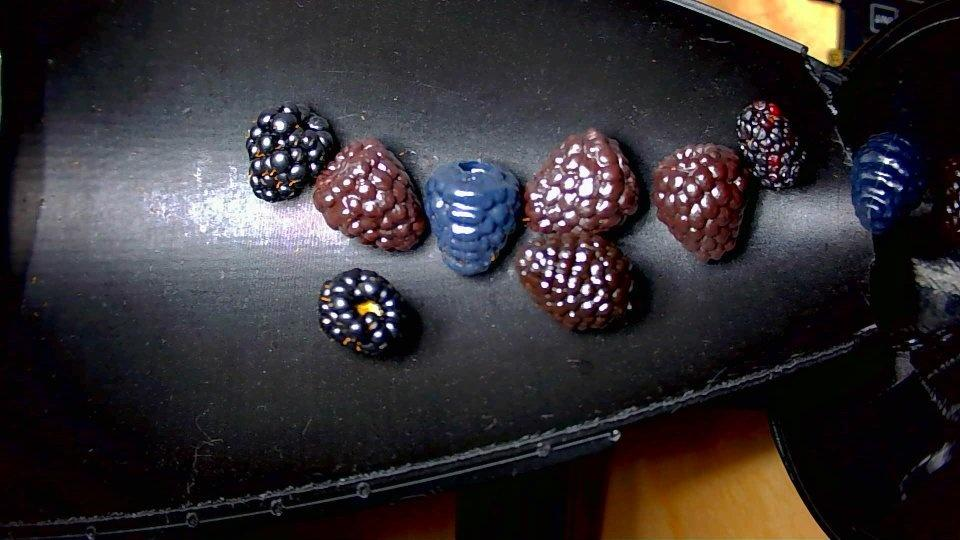berry: (314, 138, 426, 250), (525, 128, 637, 233), (652, 143, 748, 261), (516, 233, 631, 329), (424, 161, 520, 274), (245, 104, 333, 201), (319, 268, 406, 355), (851, 132, 925, 232), (738, 101, 805, 187), (934, 156, 959, 246)
